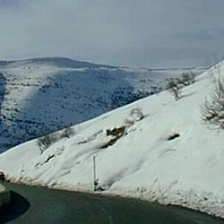neutral: (1, 17, 224, 212)
